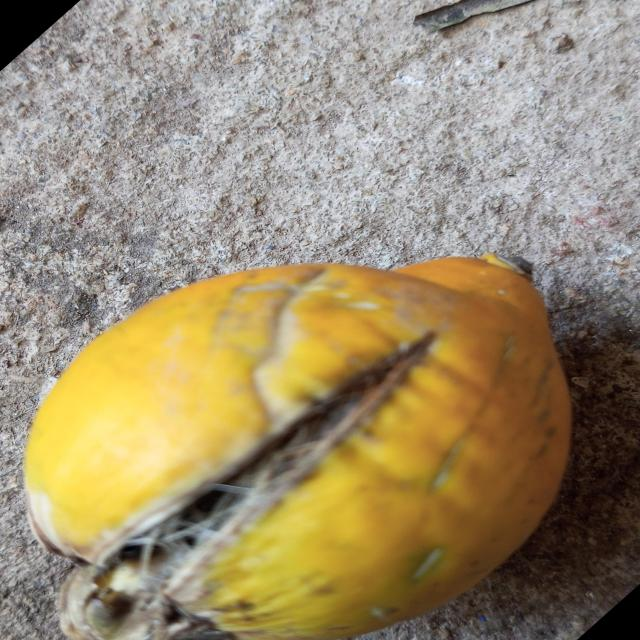damaged: (23, 255, 573, 640)
